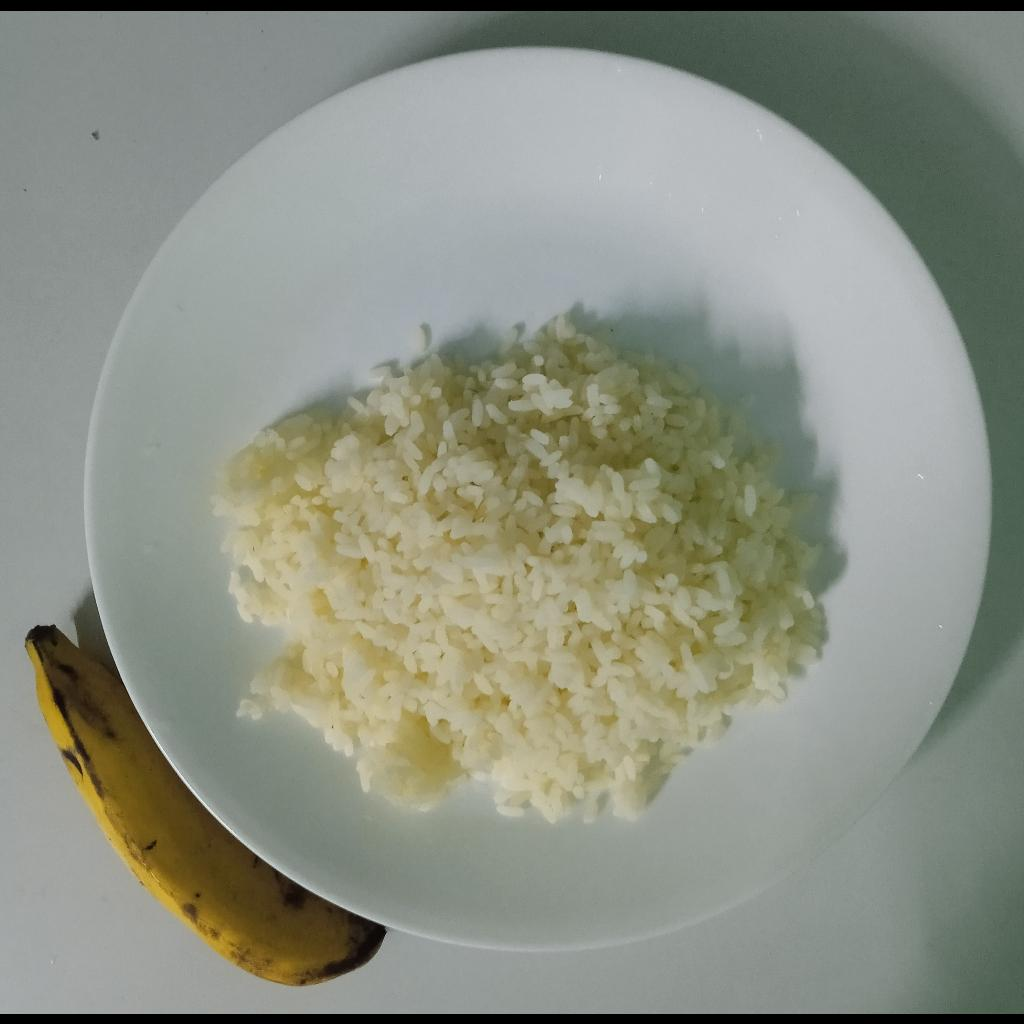banana: (24, 624, 387, 990)
rice: (206, 304, 831, 828)
